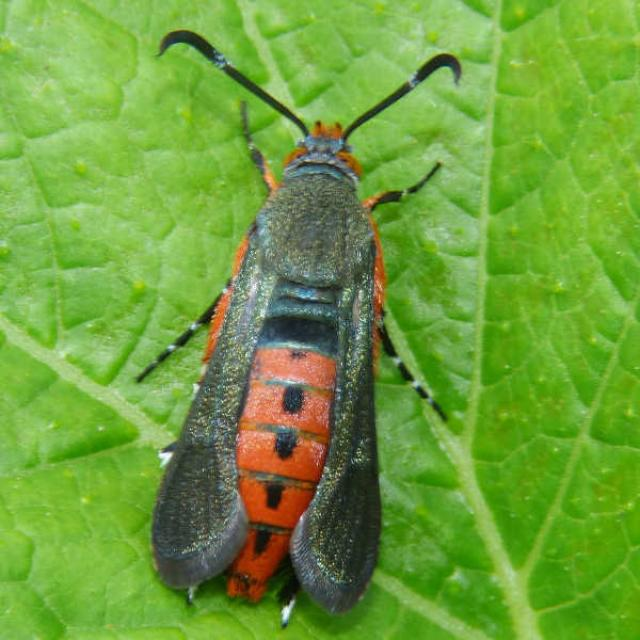squash_vine_borer: (116, 10, 478, 632)
